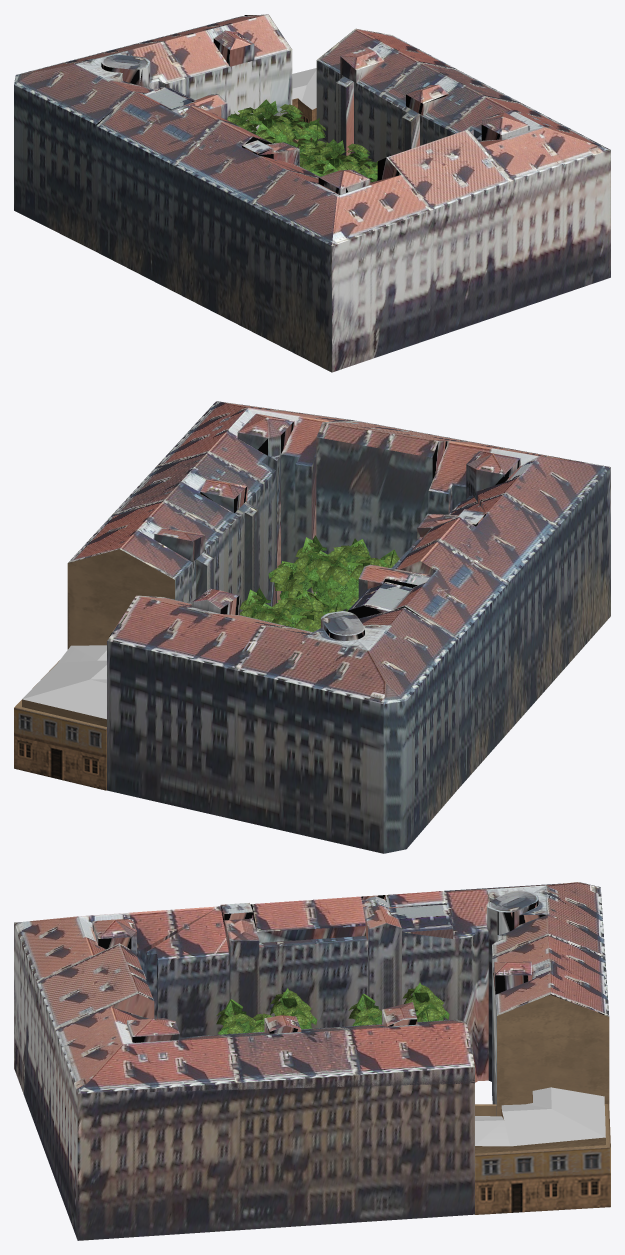
File: Cours_commune_1890.dae
The picture shows the model from 3 angles, top to bottom: view 1: azimuth 30°, elevation 25°; view 2: azimuth 150°, elevation 25°; view 3: azimuth 270°, elevation 25°; orthographic projection. The views are drawn at different scales.
Parts seen in each view (by area): view 1: Batiments, Cours_communes3_Toit, Cours_communes3_Feuiles, Angle_Toit; view 2: Batiments, Cours_communes3_Toit, Cours_communes3_Feuiles, Angle_Batiment_angle, Face, Angle_Toit; view 3: Batiments, Cours_communes3_Toit, Face, Angle_Batiment_angle, Angle_Toit, Cours_communes3_Feuiles.
Boxes of the visible parts, x1,y1,x2,y2 form: Batiments: (14, 16, 610, 372); Cours_communes3_Toit: (14, 14, 610, 245); Cours_communes3_Feuiles: (227, 99, 377, 182); Angle_Toit: (292, 68, 316, 109); Batiments: (71, 401, 610, 853); Cours_communes3_Toit: (68, 401, 610, 704); Cours_communes3_Feuiles: (239, 535, 399, 631); Angle_Batiment_angle: (14, 660, 106, 790); Face: (67, 549, 174, 649); Angle_Toit: (22, 645, 106, 719); Batiments: (14, 882, 600, 1240); Cours_communes3_Toit: (14, 882, 609, 1093); Face: (458, 995, 609, 1116); Angle_Batiment_angle: (475, 1095, 610, 1214); Angle_Toit: (475, 1087, 605, 1146); Cours_communes3_Feuiles: (216, 982, 449, 1034).
Size of the model in its own units: 72.49 by 85.69 by 29.15.
